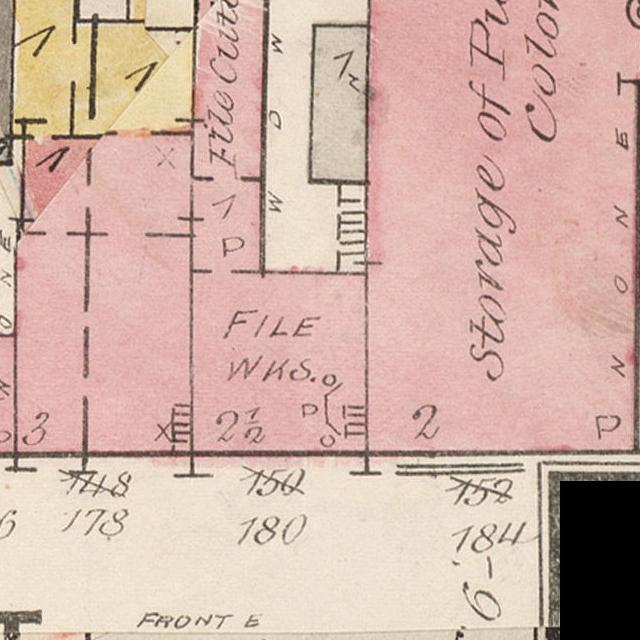building-footprints: (11, 0, 195, 457), (190, 0, 367, 454), (310, 26, 368, 182), (127, 0, 195, 28), (0, 335, 15, 455)
